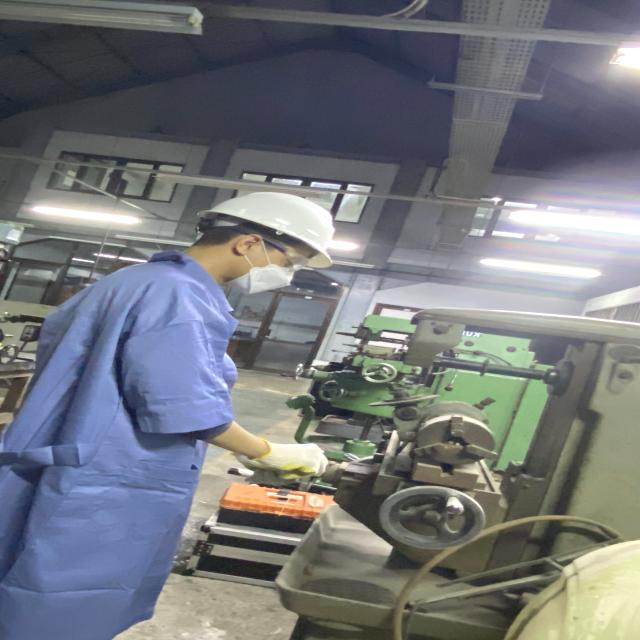face_mask: (222, 251, 322, 300)
glasses: (228, 227, 310, 275)
hand_glove: (236, 436, 333, 479)
head_helmet: (189, 190, 344, 267)
person: (0, 189, 356, 640)
